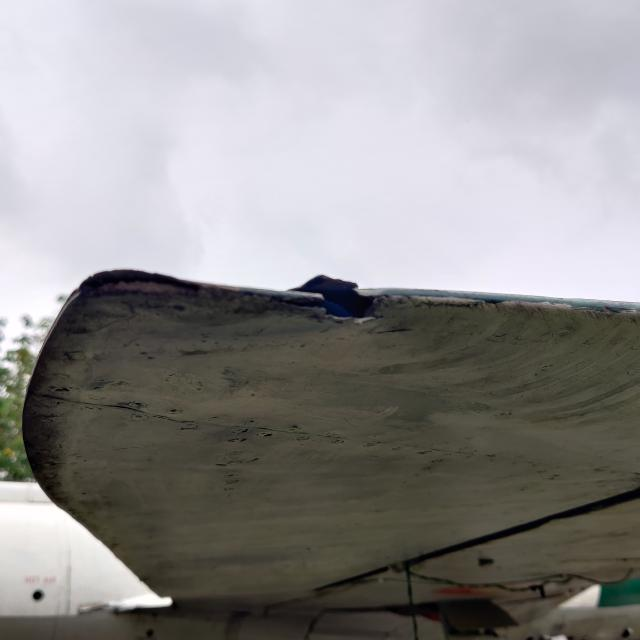crack: (275, 258, 399, 337)
